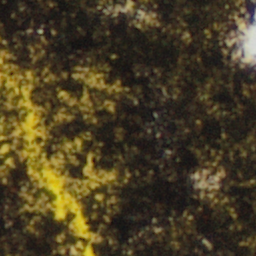cement_matrix: (0, 0, 255, 255), (0, 83, 81, 255), (196, 174, 217, 188), (89, 77, 99, 83), (124, 4, 129, 8), (143, 15, 146, 18)
cracks: (0, 56, 111, 255), (0, 147, 6, 153), (90, 78, 98, 82), (125, 5, 128, 7), (0, 132, 1, 134), (144, 16, 145, 17)
gravel_crushed_stones: (231, 10, 255, 65), (197, 175, 216, 187)
